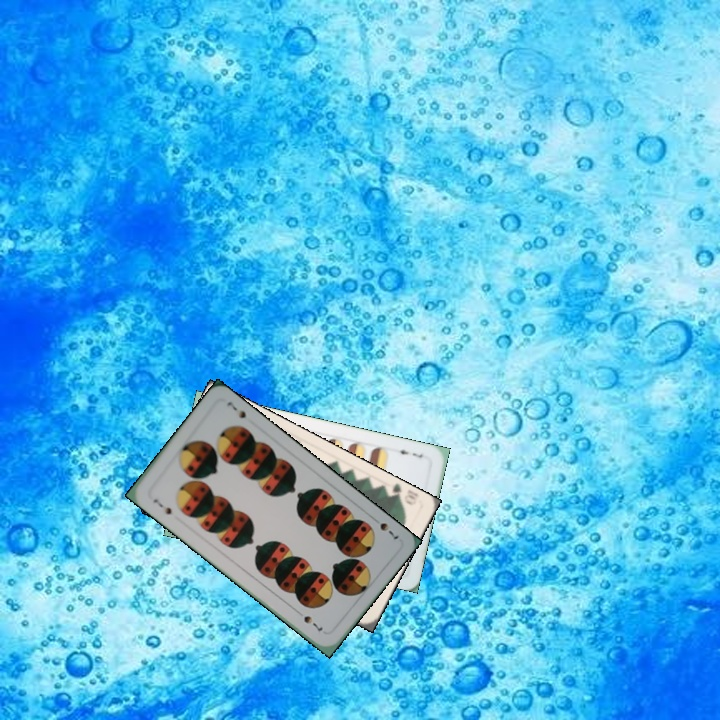E7: (392, 445, 425, 460)
G10: (382, 481, 419, 508)
S7: (376, 518, 401, 543), (149, 495, 174, 517)
